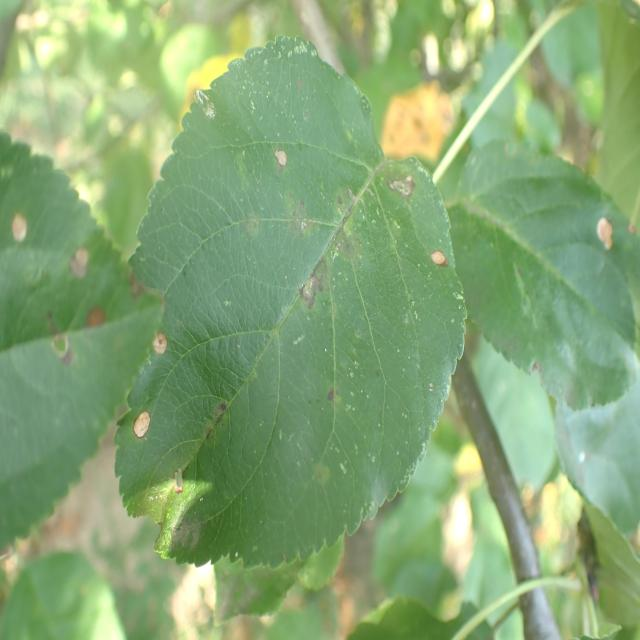frog-eye-leaf-spot: (113, 33, 468, 571), (0, 131, 163, 557), (442, 137, 640, 412)
